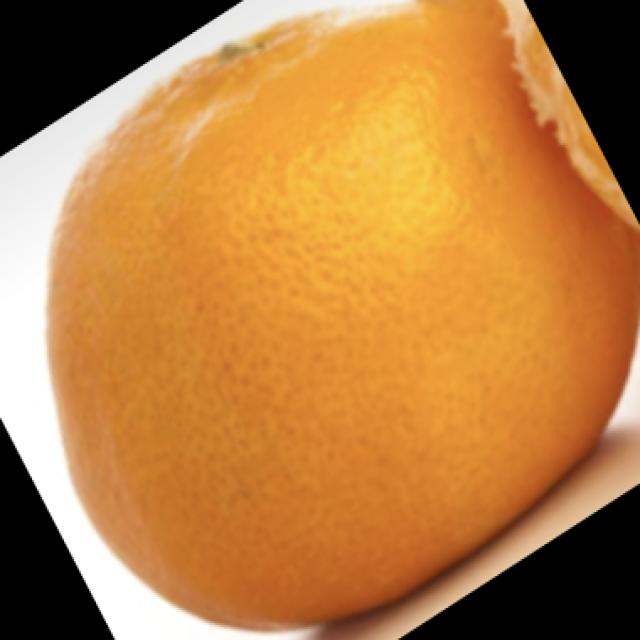matang: (48, 0, 638, 627)
